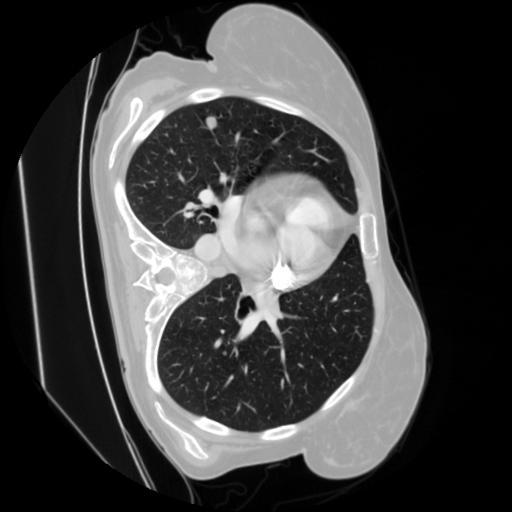nodule: (204, 116, 222, 134)
